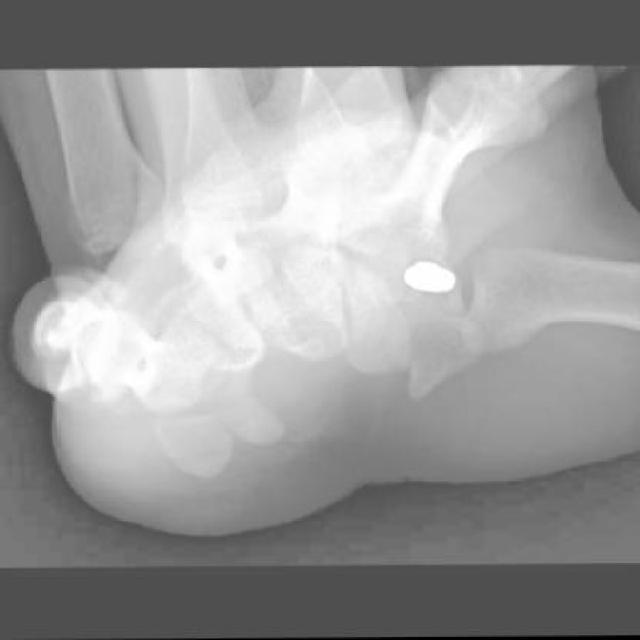Fracture: (209, 386, 257, 431)
